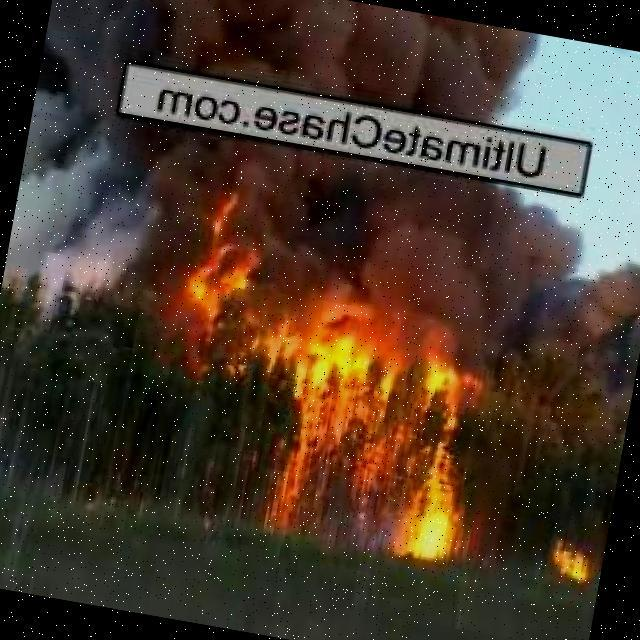Fire: (251, 345, 505, 587), (163, 207, 273, 337), (546, 538, 603, 586)
